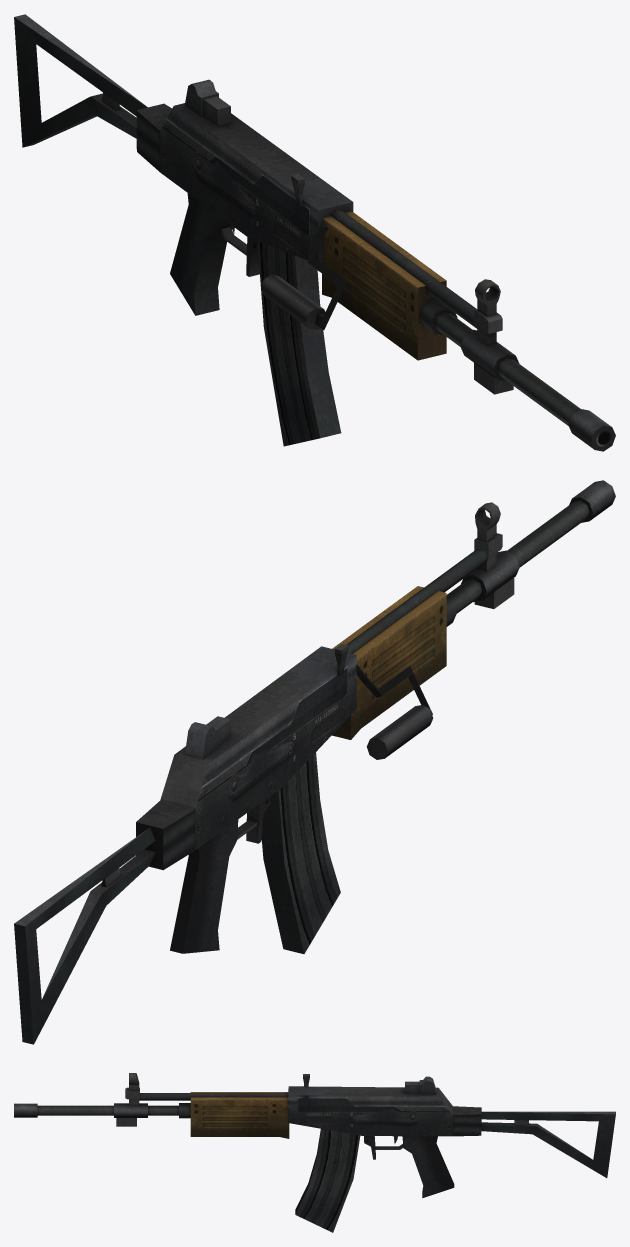
File: w_rif_galil.glb
3 views of the same model, one above another, from view 1: azimuth 30°, elevation 25°; view 2: azimuth 150°, elevation 25°; view 3: azimuth 270°, elevation 25° (orthographic). The views are drawn at different scales.
Visible parts, largest first — view 1: w_rif_galil; view 2: w_rif_galil; view 3: w_rif_galil.
Boxes of the visible parts, x1,y1,x2,y2 form: w_rif_galil: (14, 14, 615, 451); w_rif_galil: (14, 480, 615, 1044); w_rif_galil: (14, 1073, 615, 1232).
Size of the model in its own units: 0.0652 by 0.2337 by 0.8119.
1 material, 1 textured.
